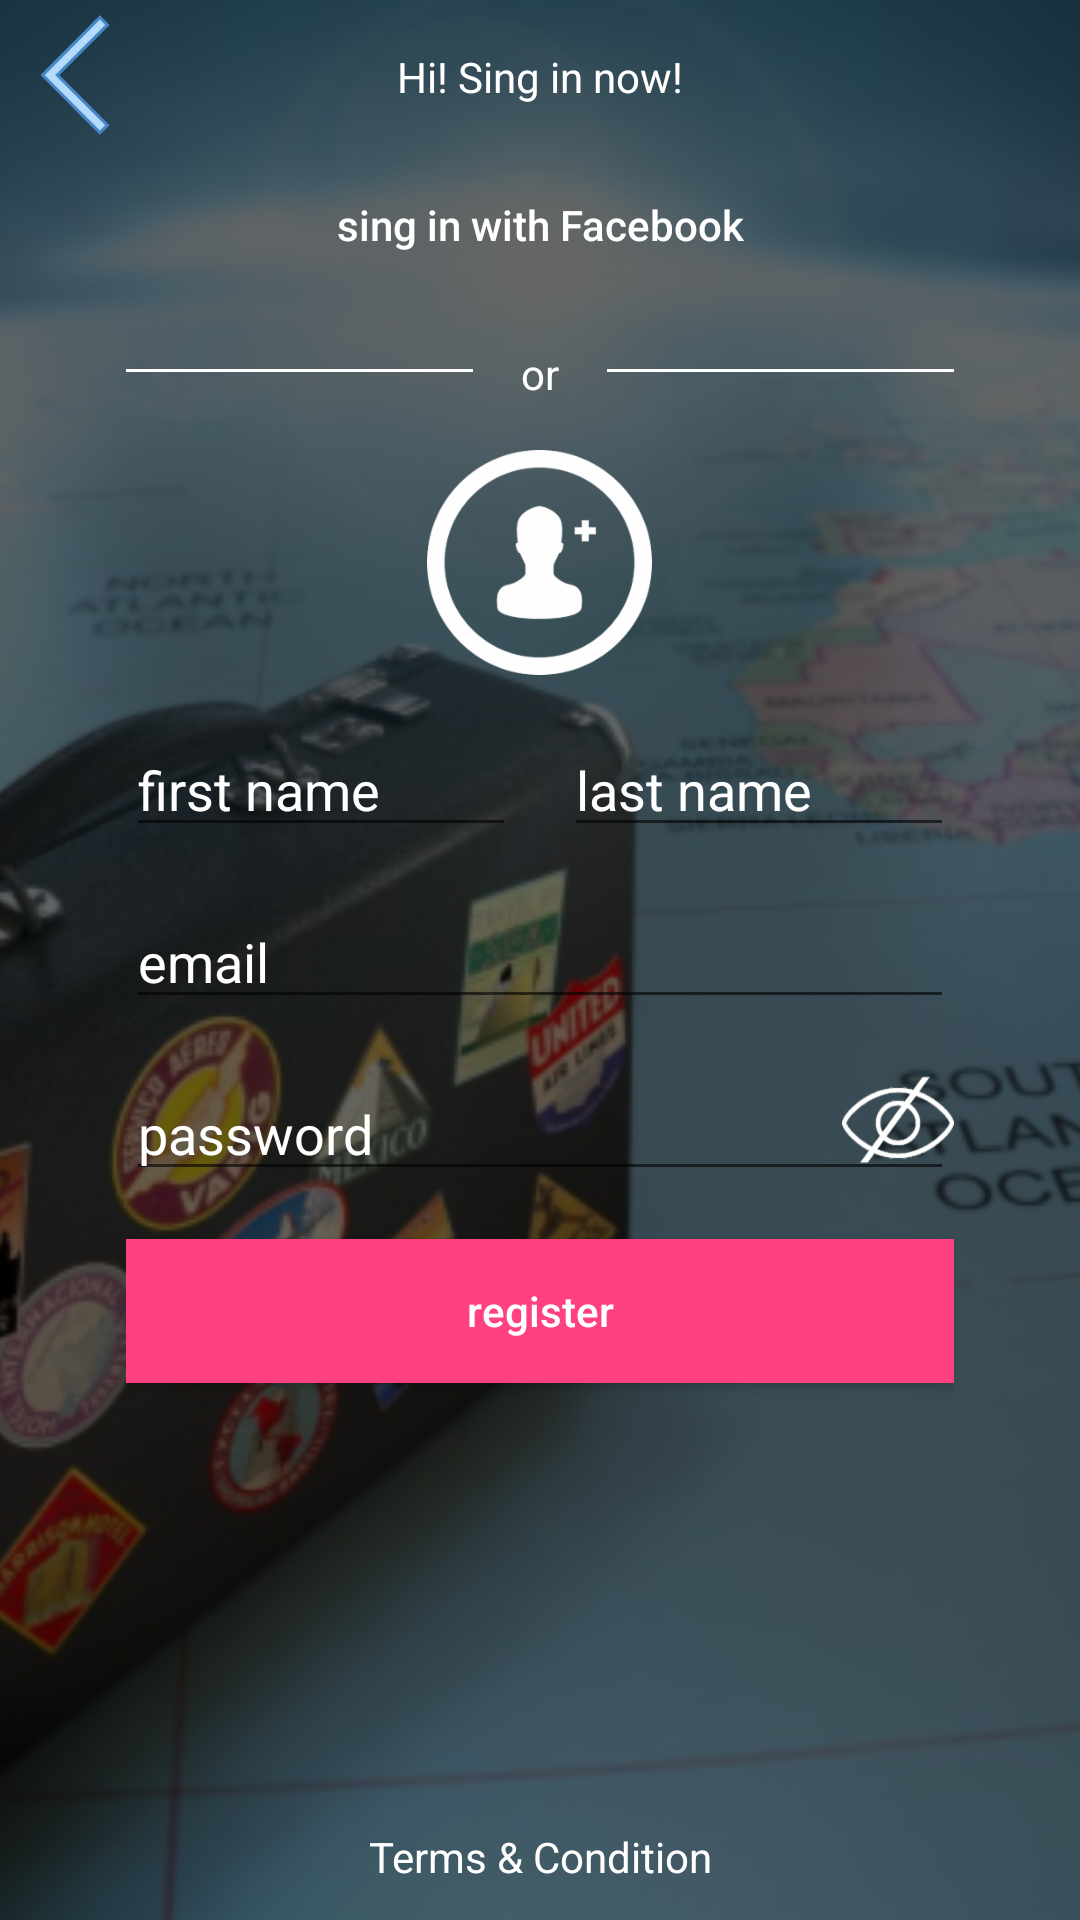

Icon bounding boxes for this 1080 × 1920 phone screenshot, format (x1, y1, x2, y2):
addphoto: (427, 450, 652, 675)
back: (40, 15, 110, 135)
